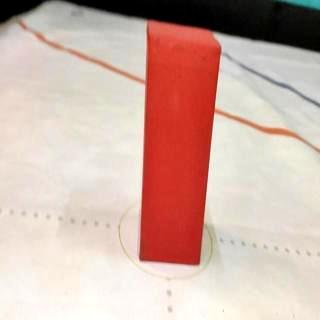redbox: (137, 19, 220, 266)
